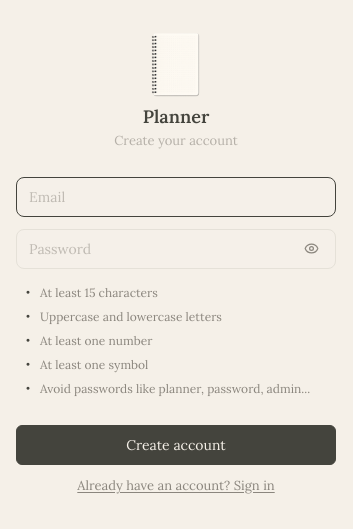
Test: RegisterPage › falls back to a form-level message for an unrecognised code
Type "new@example.com" into the field with placeholder "Email" at (176, 196), box [29,186,323,206]
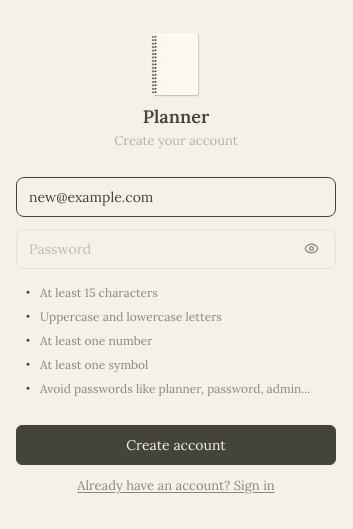
Type "Correct-horse-battery-staple-2" into the password field with placeholder "Password" at (160, 248), box [29,238,291,258]
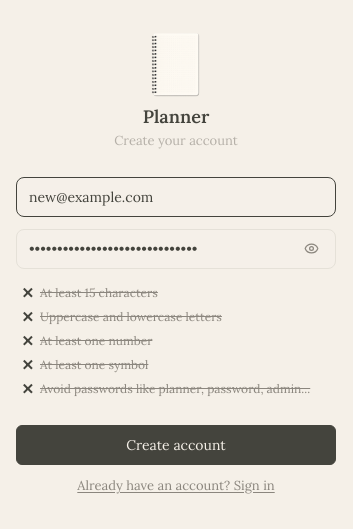
Click the button "Create account" at (176, 444), box [16,424,336,464]
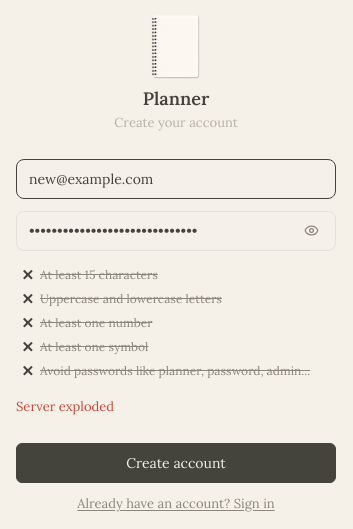
Now the message reads "Server exploded", box [16,398,114,414]
